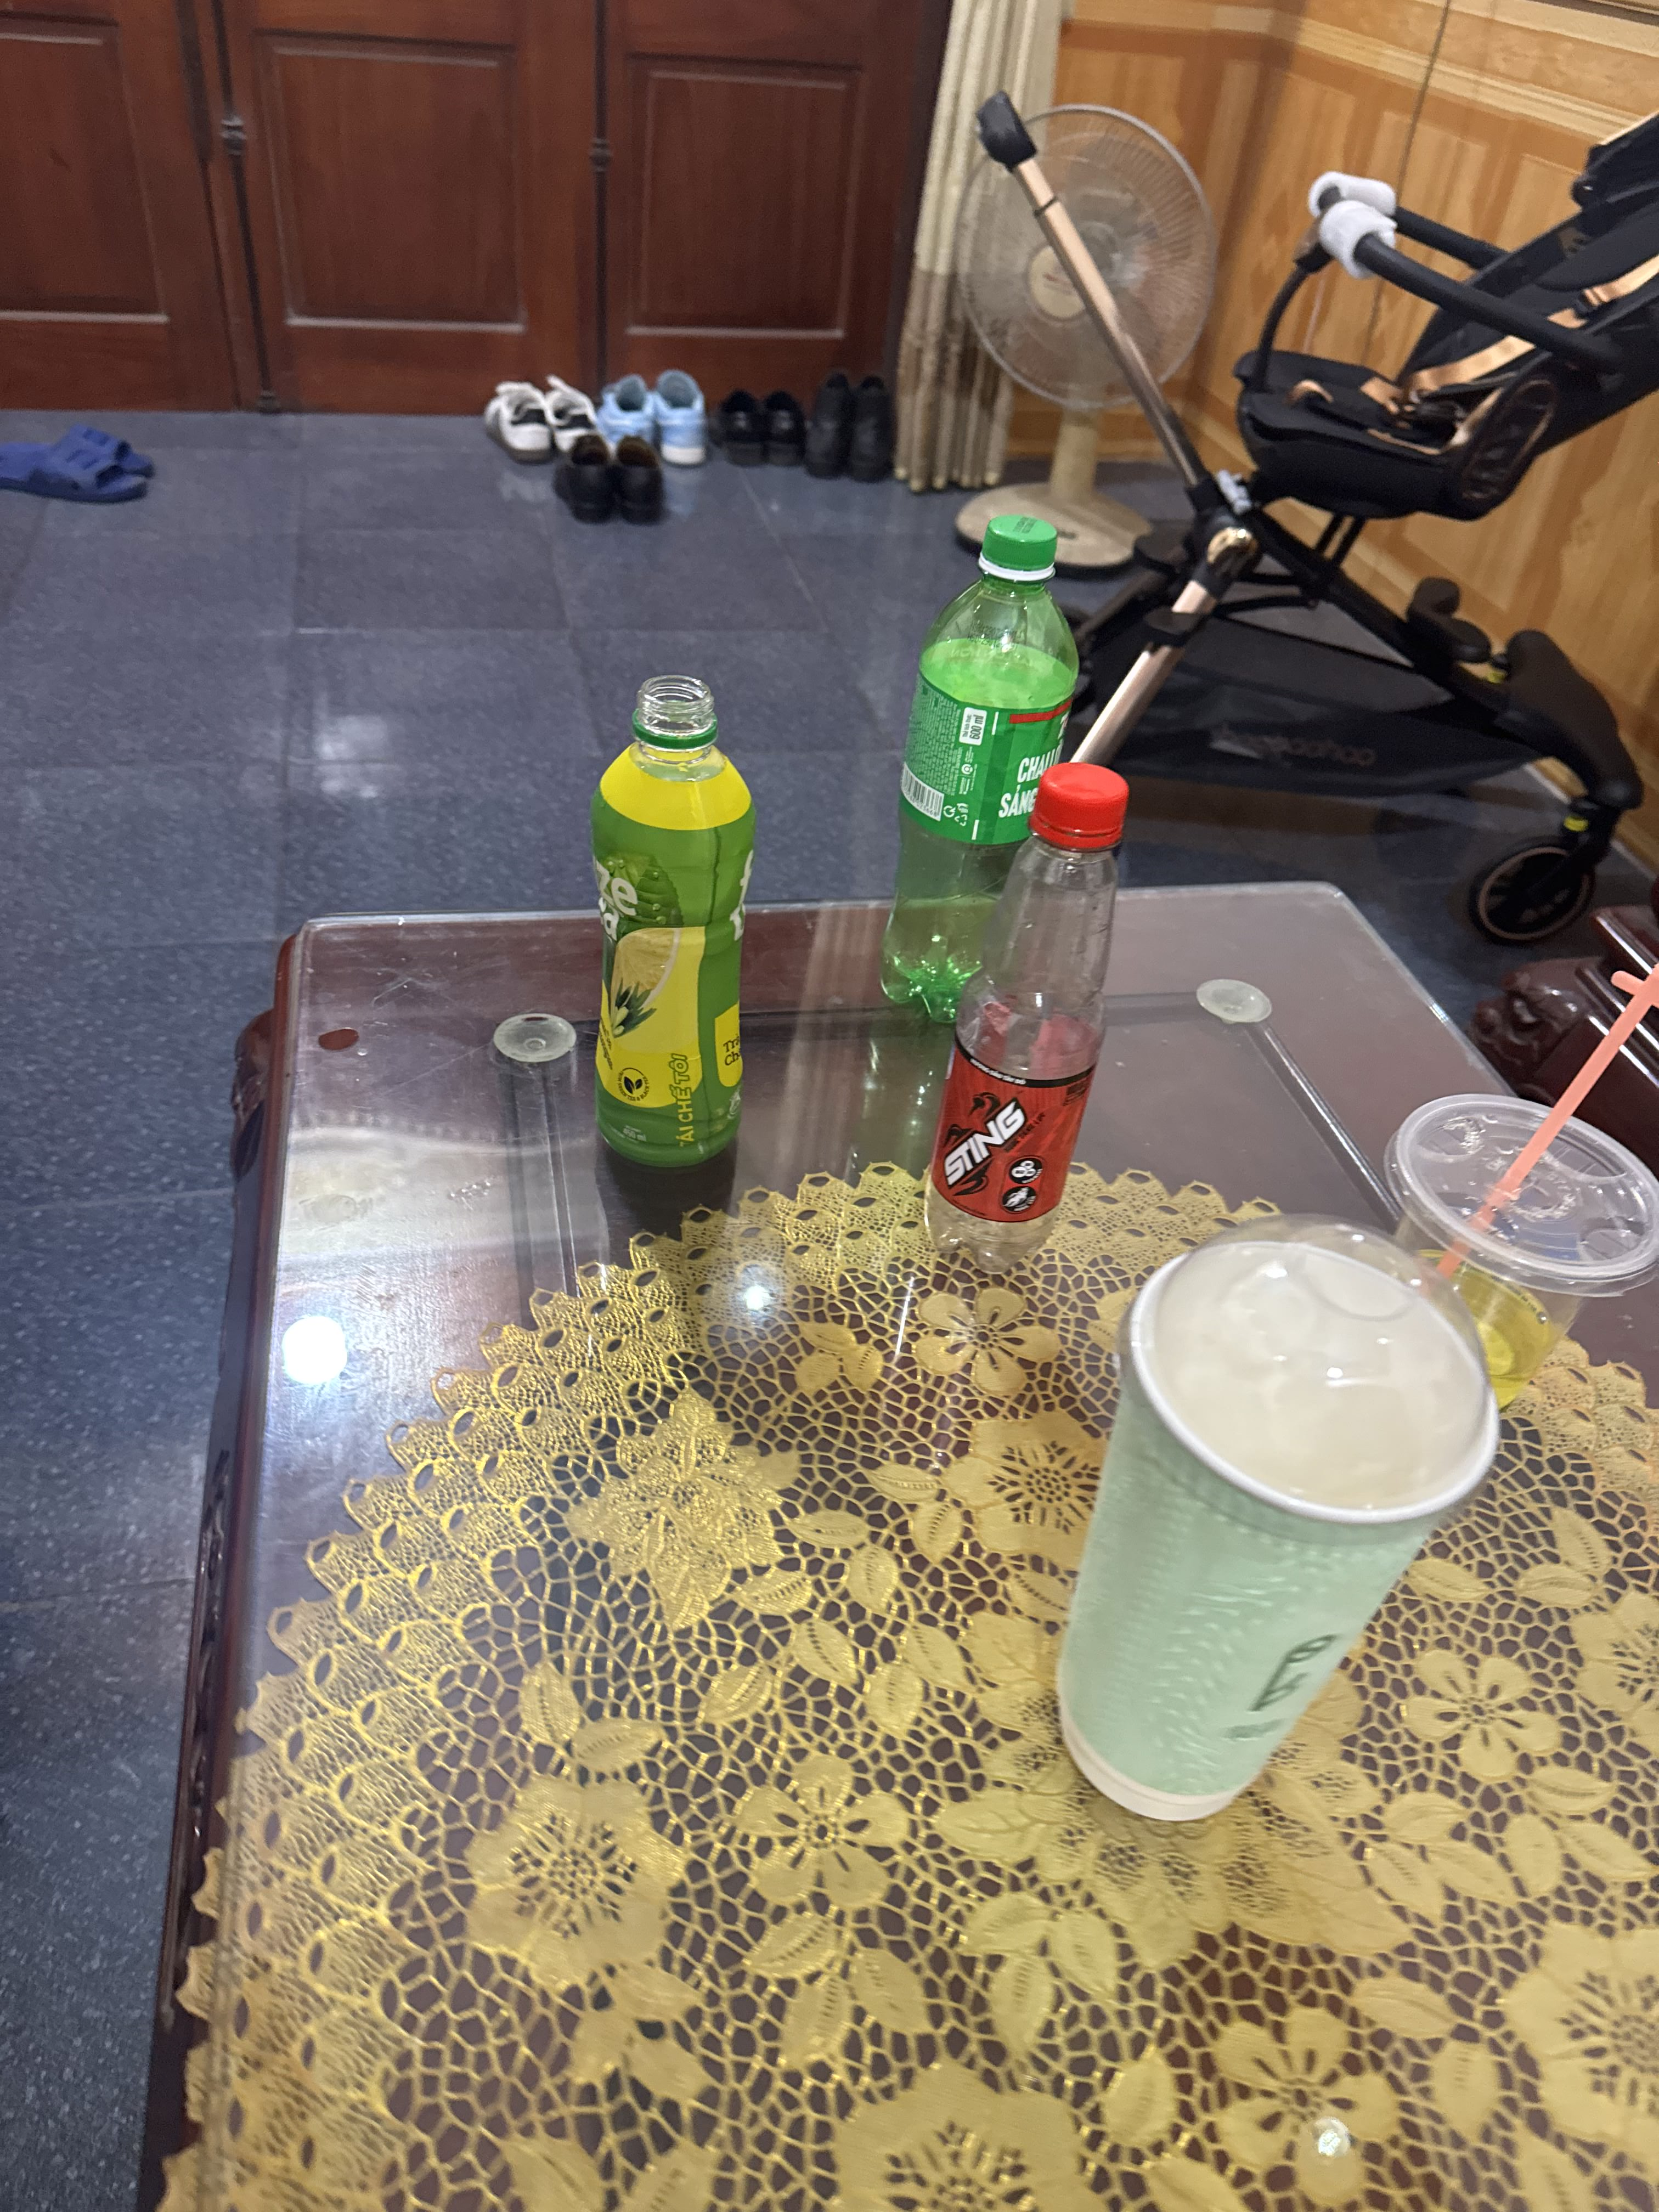2: (1042, 1191, 1513, 1911), (1366, 1031, 1659, 1453)
bottle: (882, 749, 1190, 1285), (559, 634, 802, 1223), (871, 489, 1103, 1031)
